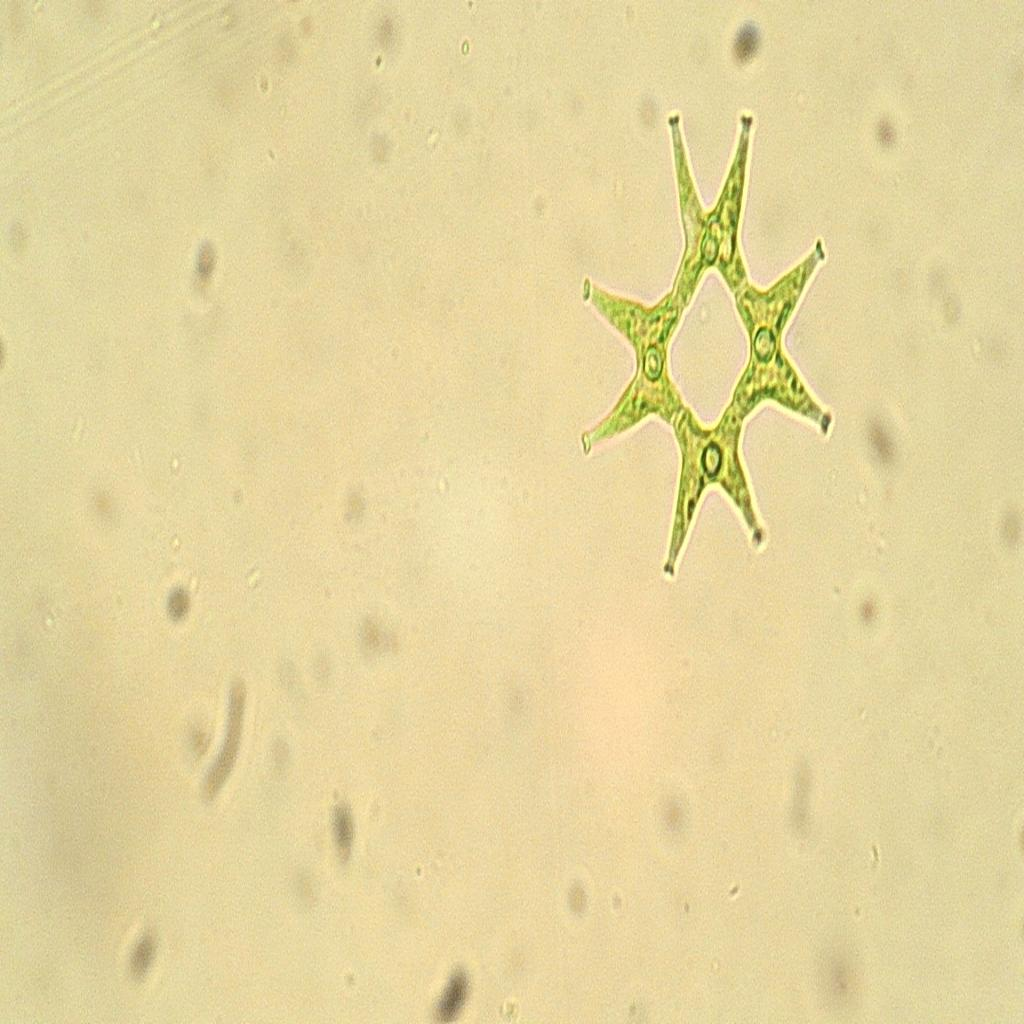Pediastrum_75O: (568, 90, 846, 608)
